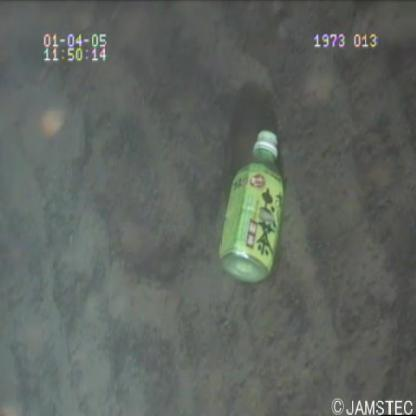Rác: (210, 124, 294, 302)
